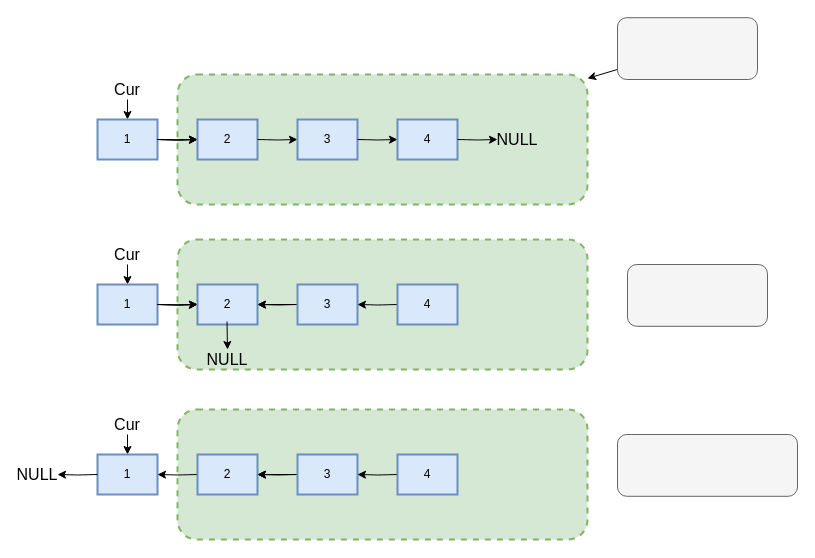
The diagram is 815 pixels wide and 558 high, and some of its shapes have lost their labels. Each missing label, with the box of its shape:
Cur.next.next = Cur Cur.next = null: (616, 434, 798, 496)
反转函数如果先把这部分进行反转: (616, 17, 758, 80)
部分先递归反转后: (626, 264, 768, 326)
